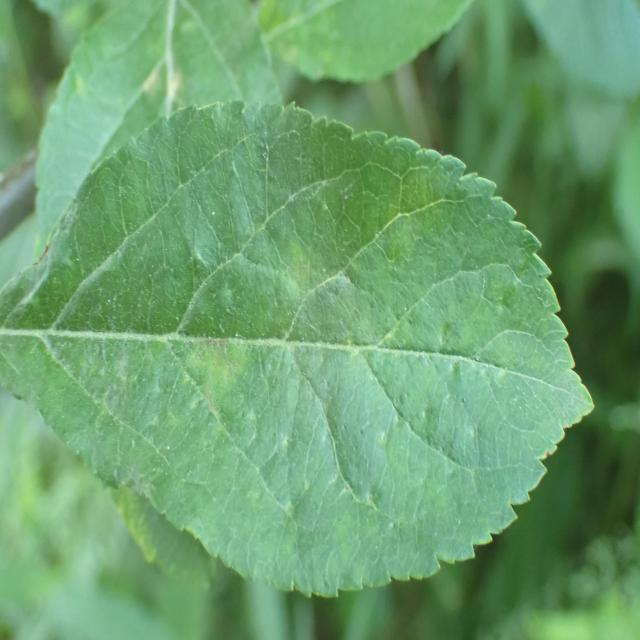scab: (112, 130, 488, 436)
